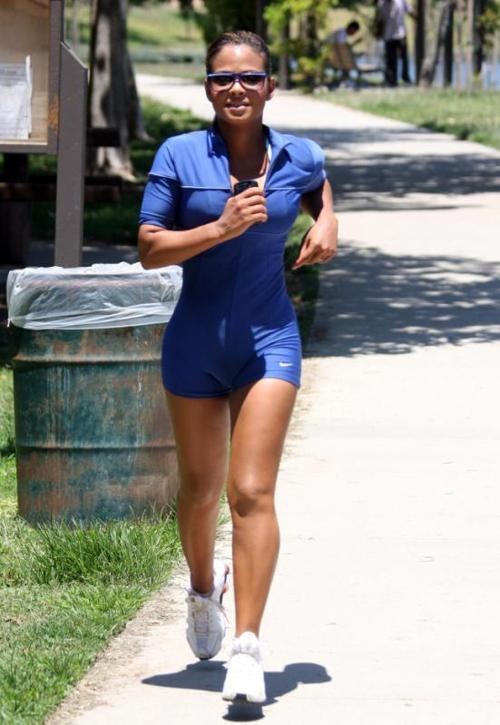person: (138, 25, 342, 709)
